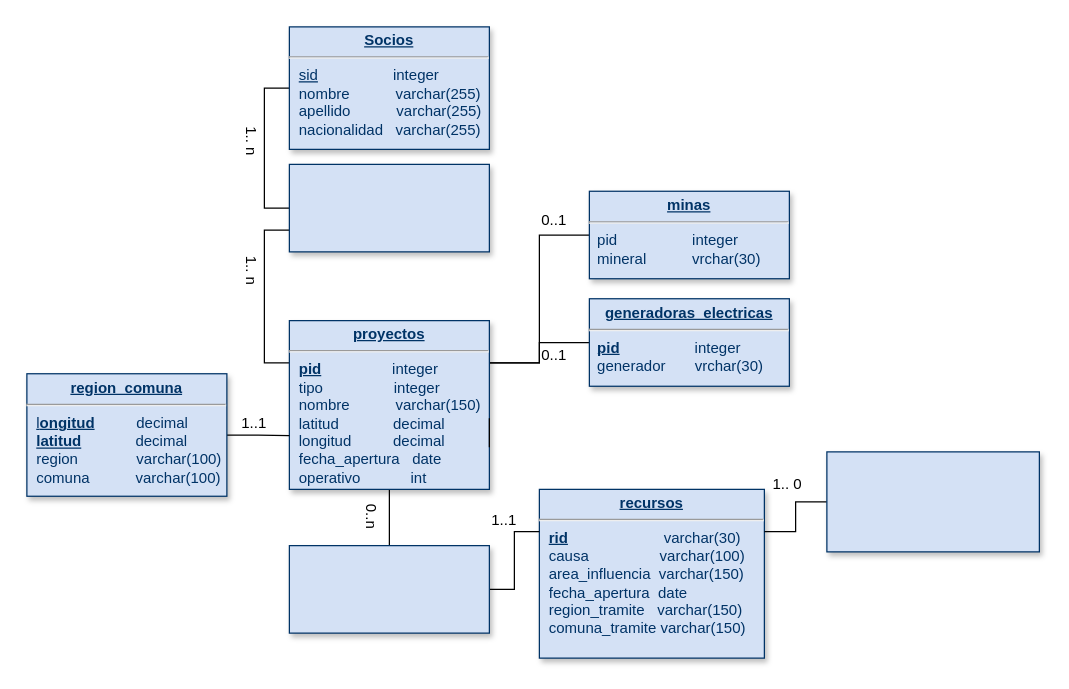
Image size: 1069x689. Some labels were removed from this diagram. Here are the shapes that lost their labels. From the top down, the centre of each, then its label:
(390,209): socio_proyecto sid integer pid integer
(934,503): recursos_cerrados rid varchar(30) fecha_dictamen date status varchar(10)
(390,590): recurso_proyecto rid varchar(30) pid integer
